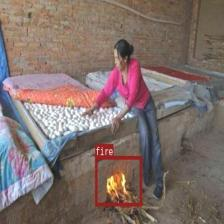fire: (94, 155, 142, 206)
